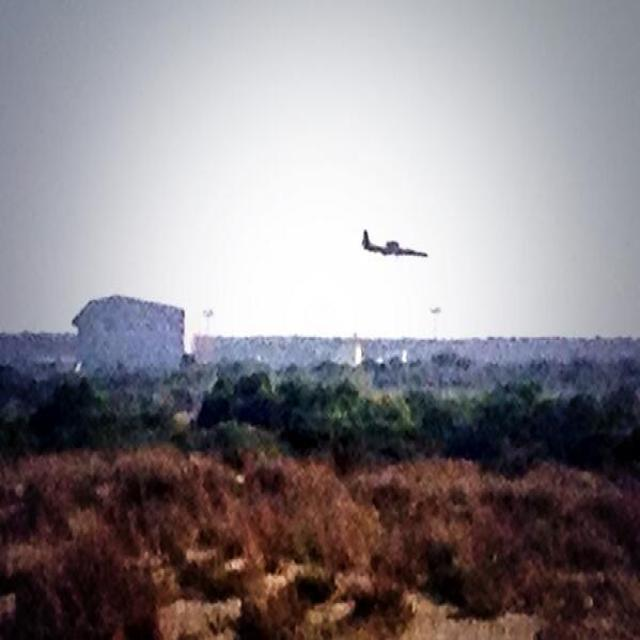MIL_Plane: (360, 227, 429, 259)
